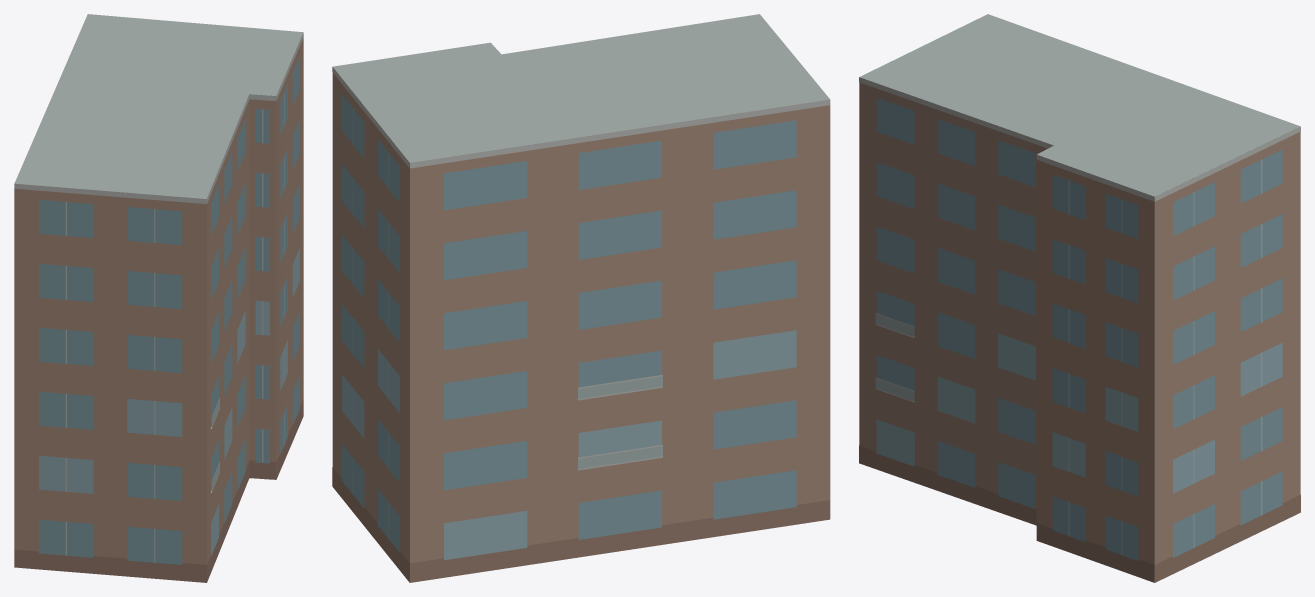
The model's file is survey-upis-32947079.glb.
3 views of the same model, side by side, from view 1: azimuth 30°, elevation 25°; view 2: azimuth 150°, elevation 25°; view 3: azimuth 270°, elevation 25° (orthographic). The views are drawn at different scales.
Parts seen in each view (by area): view 1: survey-upis-32947079.tmp; view 2: survey-upis-32947079.tmp; view 3: survey-upis-32947079.tmp.
Boxes of the visible parts, x1,y1,x2,y2 form: survey-upis-32947079.tmp: (14, 14, 303, 582); survey-upis-32947079.tmp: (332, 14, 830, 582); survey-upis-32947079.tmp: (859, 14, 1300, 582).
Bounding box in the file's own units: 18.78 × 18.5 × 19.18.
